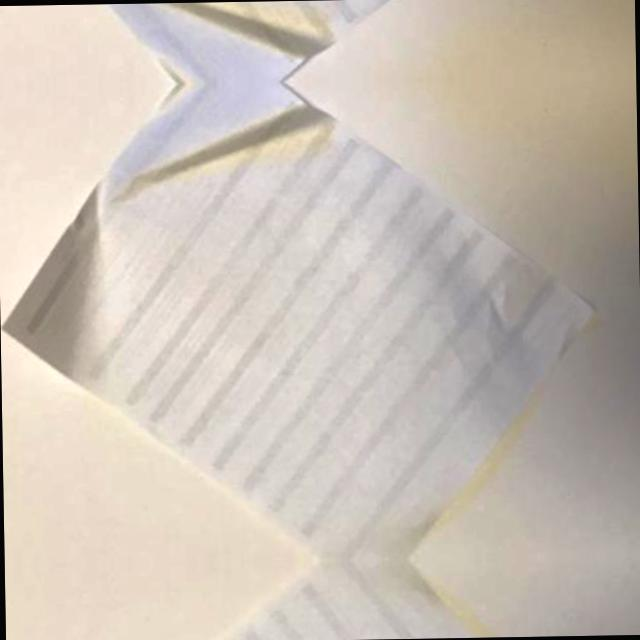paper: (0, 74, 616, 565), (4, 554, 617, 640), (0, 0, 607, 86)
